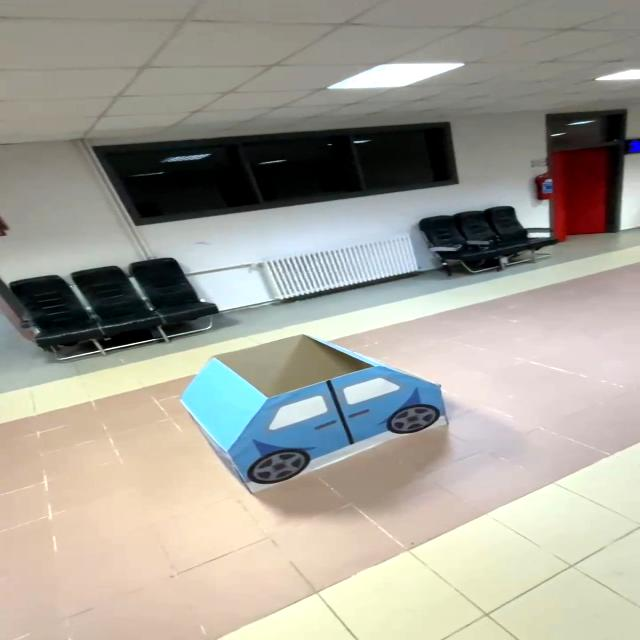blue_car: (162, 320, 476, 509)
